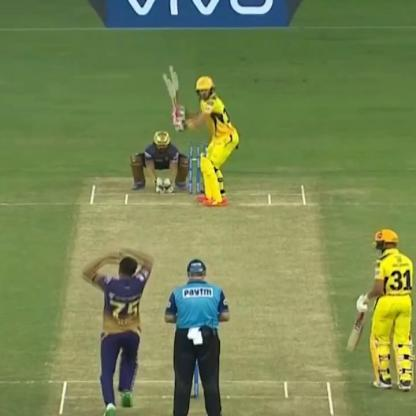bat: (158, 67, 197, 130)
pitch: (53, 169, 357, 414)
